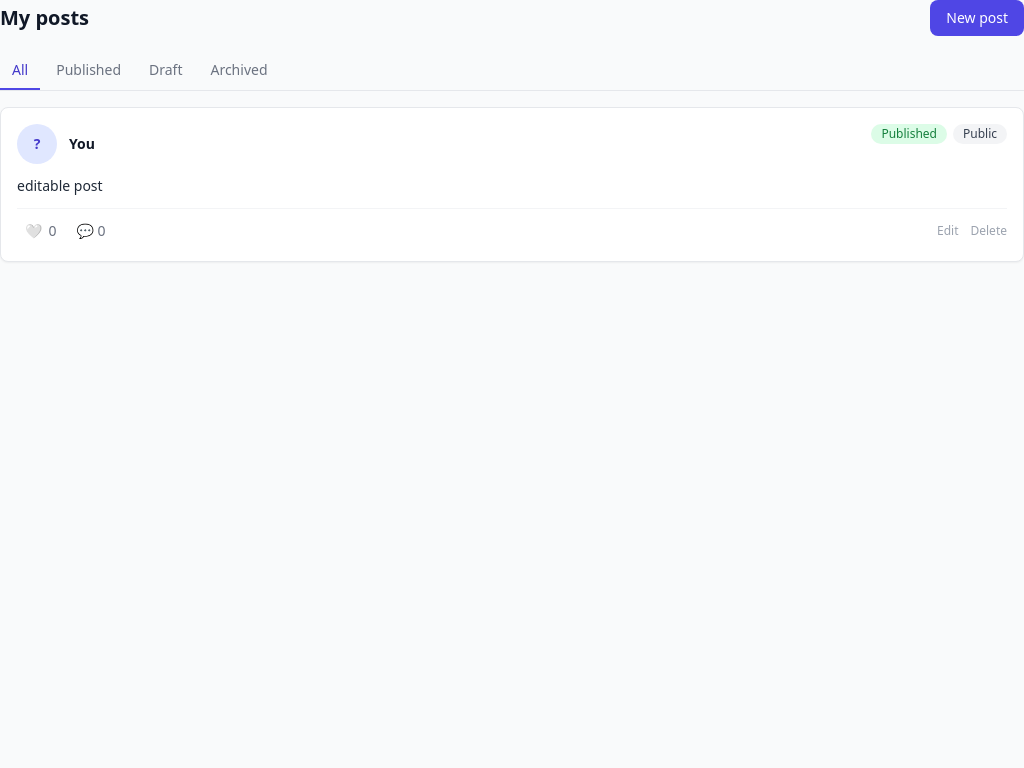
Test: MyPostsPage › opens the composer pre-filled when Edit is clicked
Expected: the text "editable post" is shown, [17,176,103,195]
Click the button "Edit".
click(948, 231)  # box [937,223,958,239]
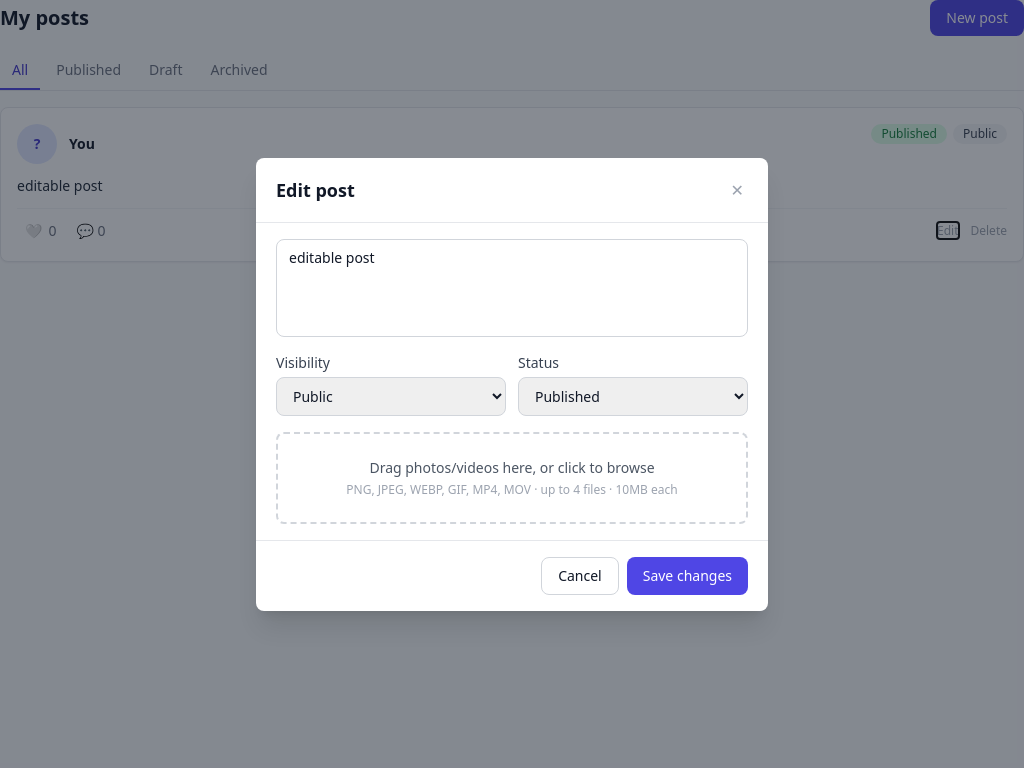
Expected: the dialog "Edit post" is shown, [256,158,768,610]
Expected: the text box named "Content" holds "editable post", [276,238,748,336]
